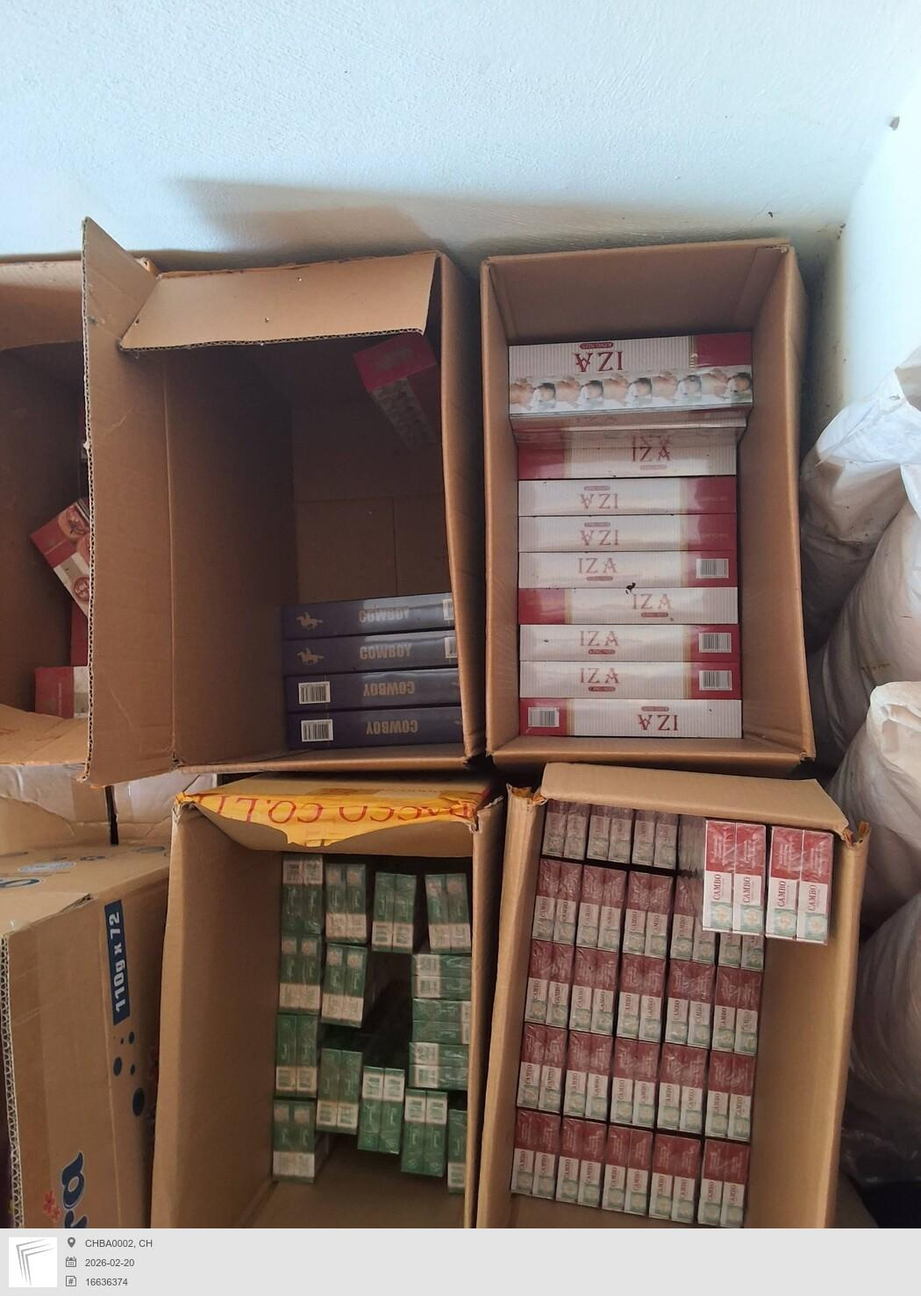cigarette_pack: (506, 333, 758, 425), (26, 493, 144, 627), (342, 343, 468, 464), (512, 659, 740, 700), (285, 703, 485, 748), (285, 629, 470, 677), (514, 624, 744, 662), (517, 478, 736, 517), (282, 670, 478, 713), (515, 436, 740, 473), (517, 553, 740, 590), (518, 588, 740, 624), (515, 516, 740, 551), (520, 698, 748, 732), (285, 592, 463, 629), (505, 419, 741, 445), (767, 832, 808, 936), (737, 821, 774, 934), (799, 832, 835, 941), (707, 818, 737, 923), (377, 1067, 410, 1158), (520, 939, 552, 1025), (397, 1089, 426, 1182), (335, 1045, 364, 1136), (420, 1092, 449, 1181), (550, 862, 582, 942), (592, 948, 621, 1035), (586, 1030, 613, 1120), (699, 1140, 726, 1228), (359, 1064, 384, 1158), (572, 943, 599, 1030), (546, 944, 574, 1027), (423, 877, 453, 954), (627, 1126, 651, 1221), (298, 935, 326, 1015), (604, 1126, 629, 1215), (302, 856, 329, 937), (653, 1131, 676, 1225), (370, 872, 396, 955), (557, 1119, 580, 1210), (578, 1121, 601, 1212), (322, 943, 348, 1023), (567, 1027, 589, 1121), (616, 951, 638, 1044), (600, 871, 626, 949), (710, 1048, 732, 1140), (688, 961, 711, 1048), (648, 876, 673, 956), (660, 1044, 682, 1134), (578, 866, 604, 942), (641, 957, 663, 1046), (270, 1099, 293, 1184), (713, 965, 736, 1050), (625, 875, 651, 950), (514, 1111, 537, 1195), (295, 1016, 320, 1093), (666, 959, 688, 1046), (519, 1020, 540, 1111), (448, 874, 473, 948), (725, 1141, 747, 1225), (672, 876, 693, 963), (735, 965, 755, 1056), (541, 1025, 561, 1114), (293, 1104, 316, 1181), (449, 1108, 470, 1192), (533, 859, 555, 939), (280, 859, 303, 935), (396, 877, 419, 953), (561, 802, 589, 863), (317, 1044, 337, 1129), (680, 1140, 700, 1224), (413, 995, 474, 1022), (617, 1040, 636, 1126), (275, 1012, 295, 1093), (537, 1114, 555, 1202), (685, 1048, 704, 1130), (737, 1055, 755, 1140), (347, 866, 367, 942), (638, 1040, 656, 1124), (411, 1066, 473, 1090), (326, 863, 346, 937), (653, 812, 677, 872), (281, 935, 300, 1010), (411, 1042, 472, 1065), (346, 943, 362, 1030), (413, 956, 471, 980), (613, 807, 634, 871), (414, 1021, 472, 1042), (586, 804, 606, 860), (416, 977, 469, 998), (633, 812, 652, 867), (742, 933, 764, 974), (692, 922, 712, 966), (547, 802, 562, 859), (723, 928, 740, 966)
